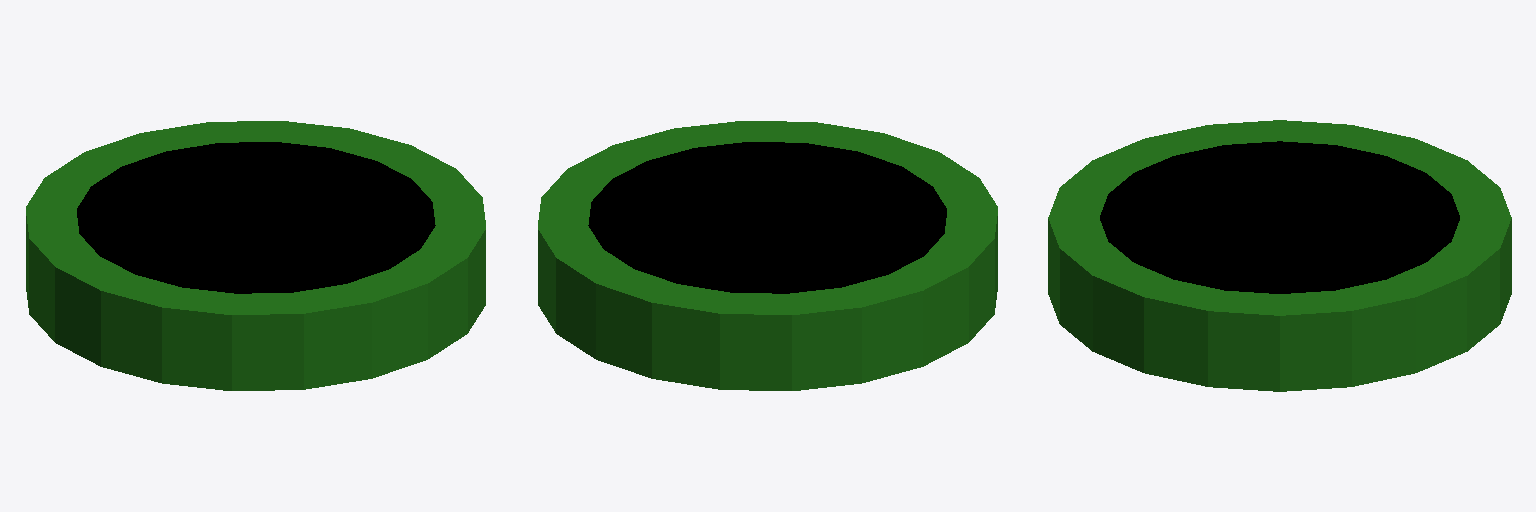
The model's file is coin.obj.
3 views of the same model, side by side, from view 1: azimuth 30°, elevation 25°; view 2: azimuth 150°, elevation 25°; view 3: azimuth 270°, elevation 25° (orthographic).
Visible parts, largest first — view 1: pCylinder1, pCylinder2; view 2: pCylinder1, pCylinder2; view 3: pCylinder1, pCylinder2.
Part boxes in pixels (x1,y1,x2,y2): pCylinder1: (26, 121, 485, 390); pCylinder2: (77, 142, 435, 293); pCylinder1: (538, 121, 997, 390); pCylinder2: (588, 142, 946, 293); pCylinder1: (1048, 120, 1511, 391); pCylinder2: (1100, 141, 1459, 293).
Size of the model in its own units: 1.09 by 0.2001 by 1.09.